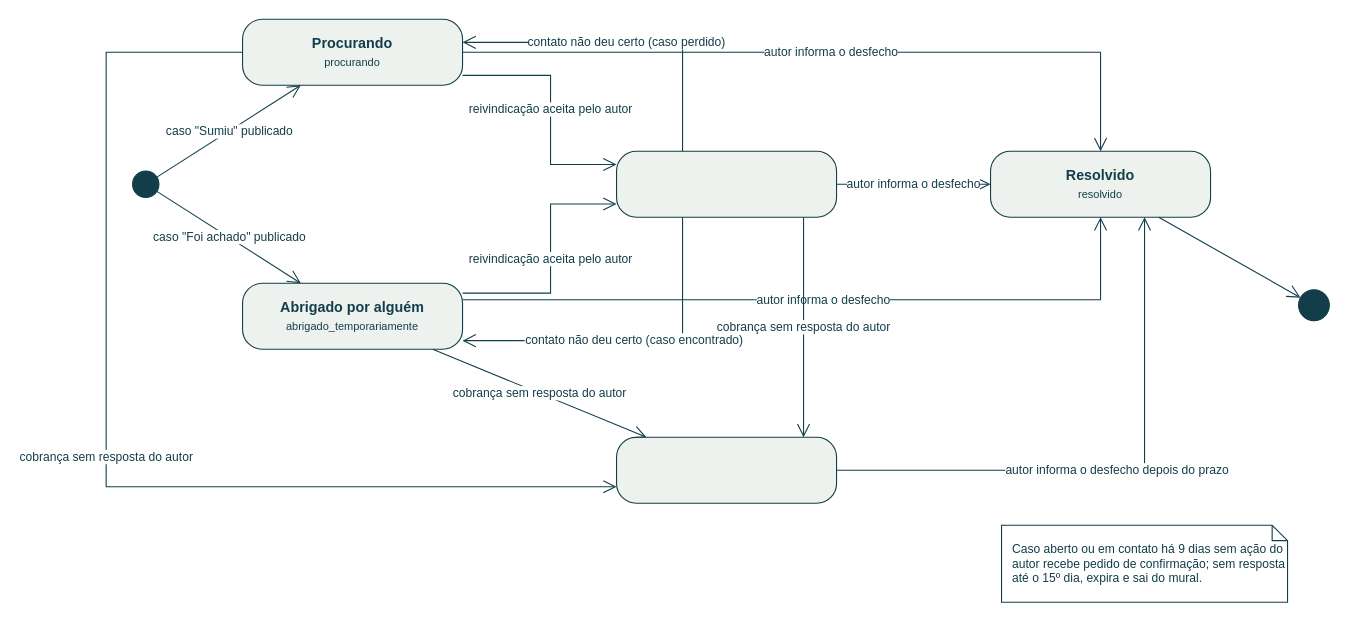
Image size: 1349x622. Some labels were removed from this diagram. The centre of each missing label's shape, as x and y in pixels:
Em contato em_contato: pixel 726 183
Expirado expirado: pixel 726 469
